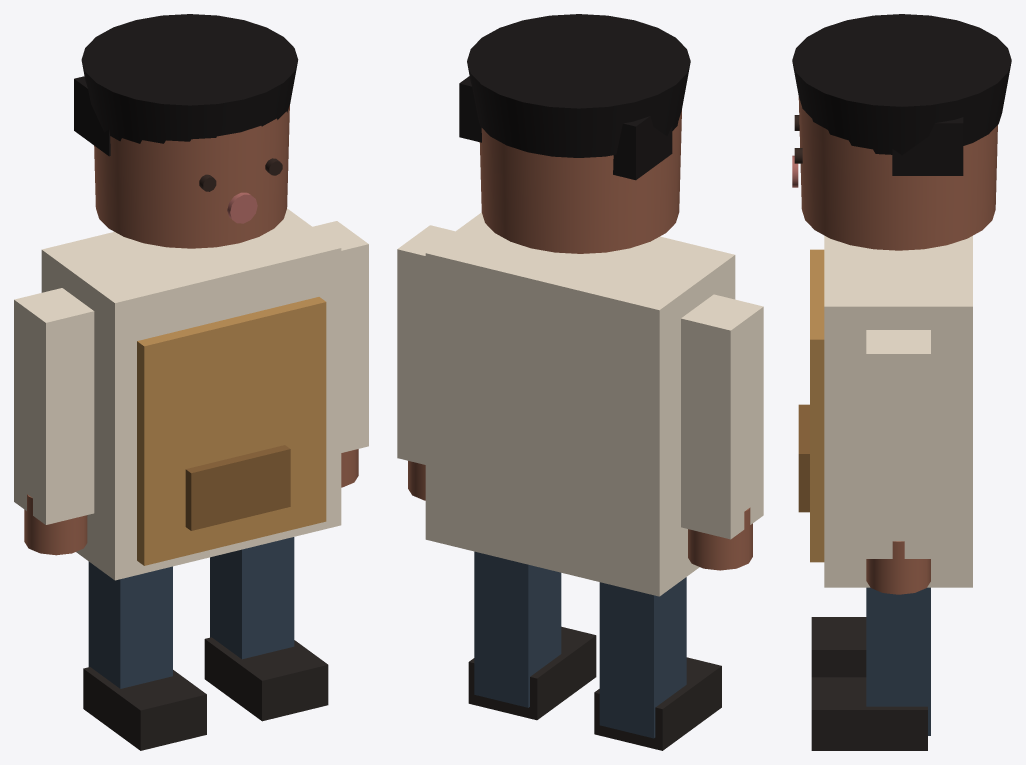
File: customer-05.glb
The picture shows the model from 3 angles, left to right: view 1: azimuth 30°, elevation 25°; view 2: azimuth 150°, elevation 25°; view 3: azimuth 270°, elevation 25°; orthographic projection. The views are drawn at different scales.
Parts seen in each view (by area): view 1: Shirt, Apron, Sleeve (×2), HairCap, Head, Leg (×2), Shoe (×2), ApronPocket, Hand (×2), HairFringe, Smile; view 2: Shirt, Sleeve (×2), HairCap, Leg (×2), Head, Shoe (×2), HairFringe, Hand (×2); view 3: Shirt, HairCap, Head, Sleeve, Shoe (×2), Leg, Apron, HairFringe, Hand, ApronPocket.
Part boxes in pixels (x1,y1,x2,y2): Shirt: (41,208,341,580); Apron: (137,297,326,565); Sleeve (×2): (14,221,368,524); HairCap: (81,14,298,143); Head: (94,105,289,248); Leg (×2): (88,537,294,688); Shoe (×2): (83,637,328,750); ApronPocket: (185,445,290,530); Hand (×2): (24,449,358,555); HairFringe: (74,76,110,156); Smile: (227,192,257,223); Shirt: (425,212,735,596); Sleeve (×2): (397,225,763,539); HairCap: (467,14,690,157); Leg (×2): (474,551,686,738); Head: (479,110,681,253); Shoe (×2): (468,626,721,750); HairFringe: (459,76,672,180); Hand (×2): (408,461,752,570); Shirt: (824,235,972,587); HairCap: (792,14,1011,154); Head: (798,96,997,250); Sleeve: (866,330,930,558); Shoe (×2): (811,617,927,750); Leg: (866,587,930,735); Apron: (810,249,824,562); HairFringe: (892,117,963,175); Hand: (866,541,930,594); ApronPocket: (798,404,809,512).
Bounding box in the file's own units: 1.18 × 2.2 × 0.68.
